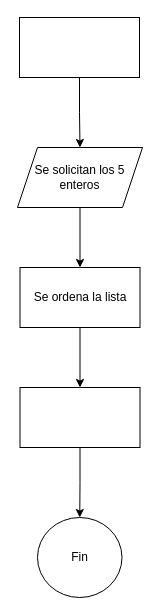
Image size: 160x615. Some labels were removed from this diagram. The centre of each missing label's shape, as x and y in pixels:
main(): the point at 79,47
Se imprime la lista: the point at 79,417
